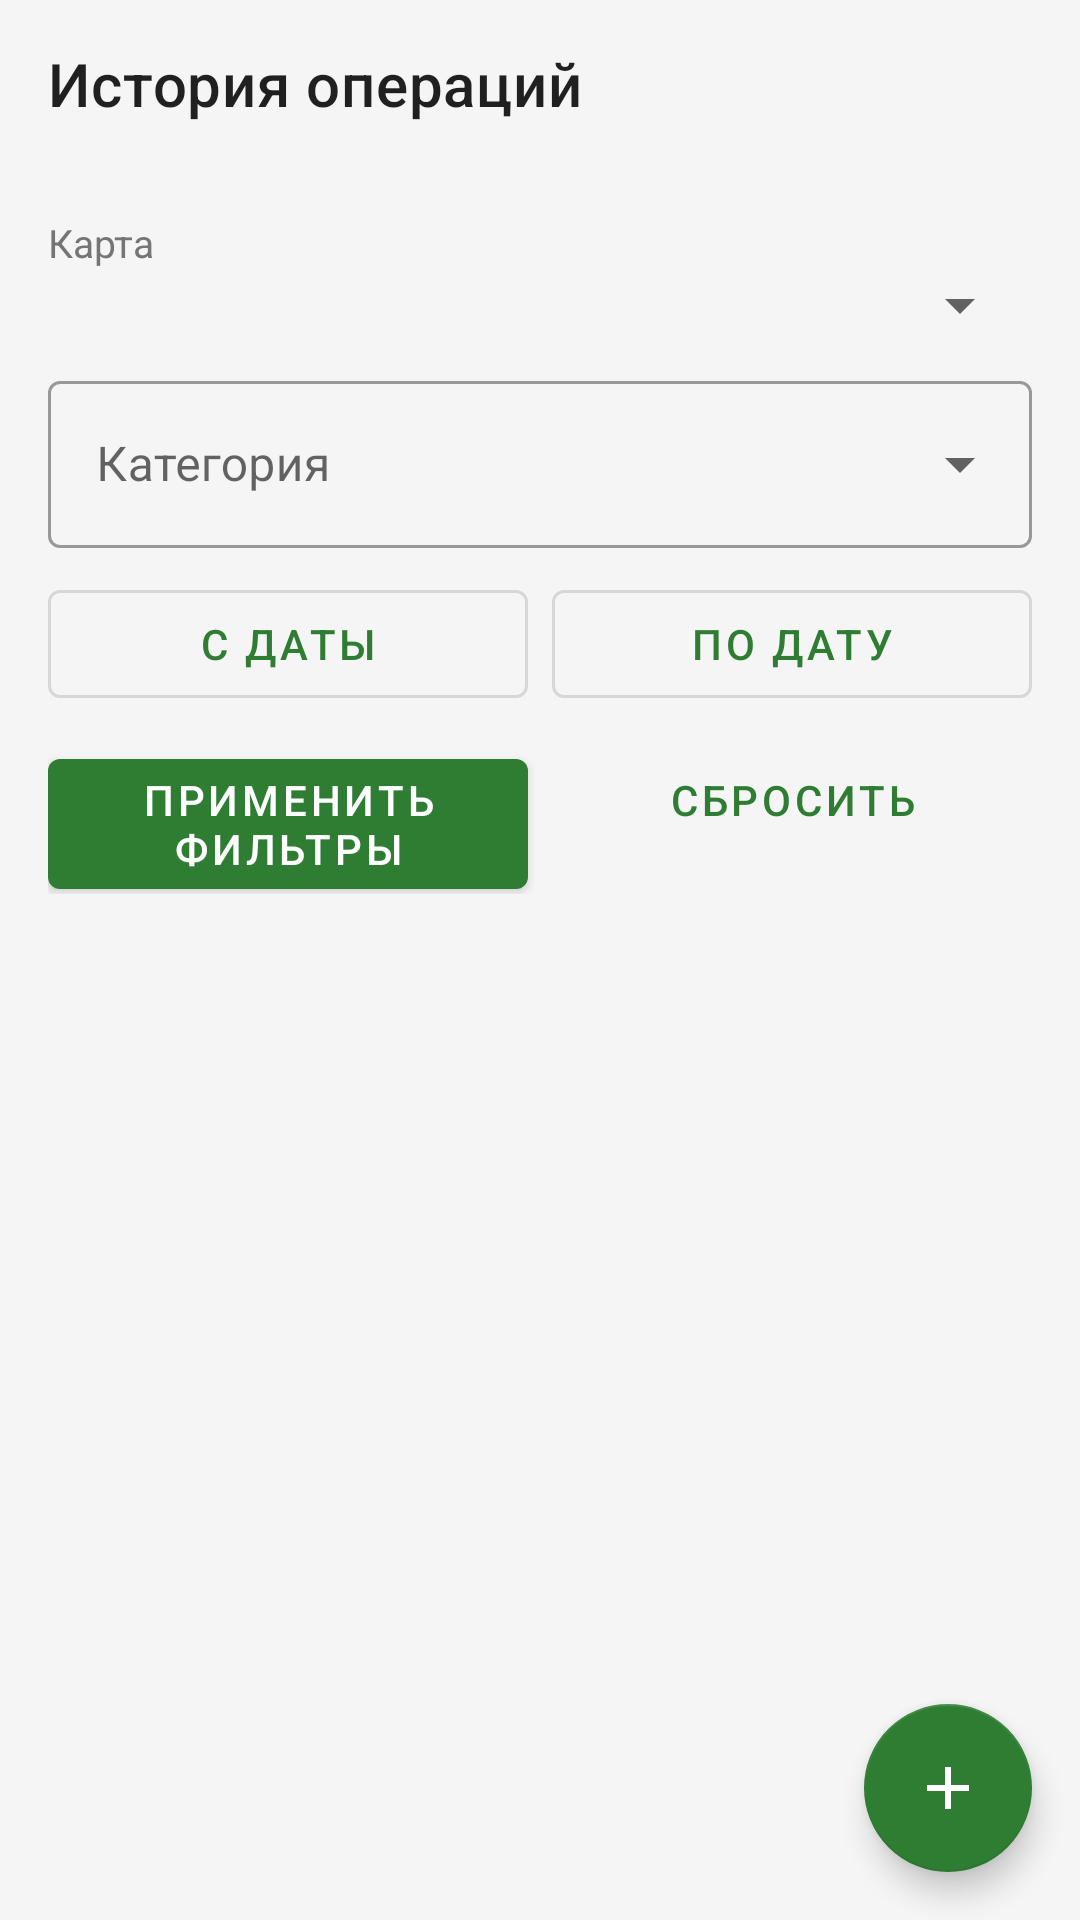

Locate icon controls on the screen. Image size 1080px x 1920px, boxes as (x1, y1, x2, y2).
Добавить операцию: (864, 1704, 1032, 1872)
